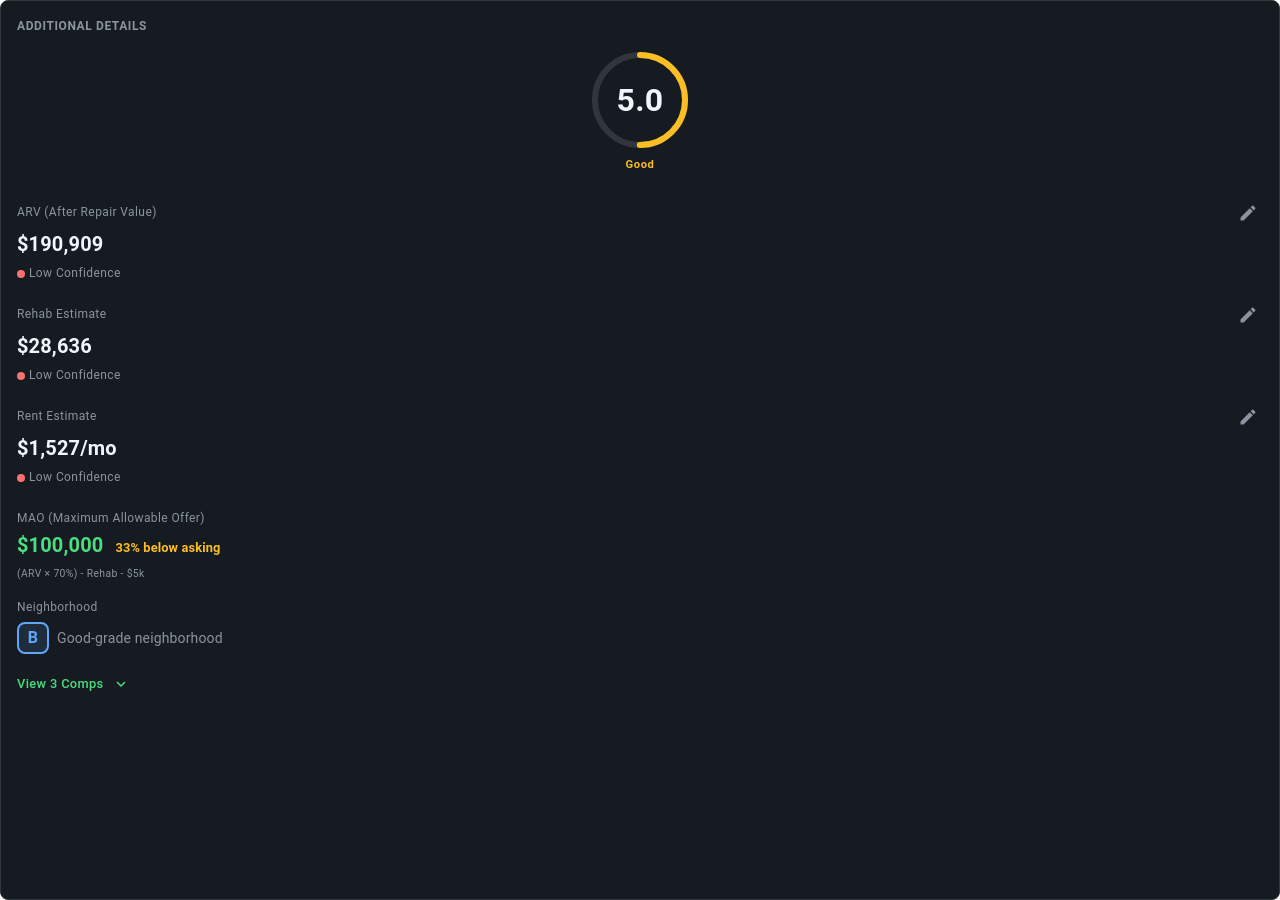
Test: EvaluationSection › reading from _metrics (TASK-093) › should show Manual Override badge after editing
Note: Edit ARV
Click the button named "Edit ARV" at (1248, 213), box [1233, 198, 1263, 228]
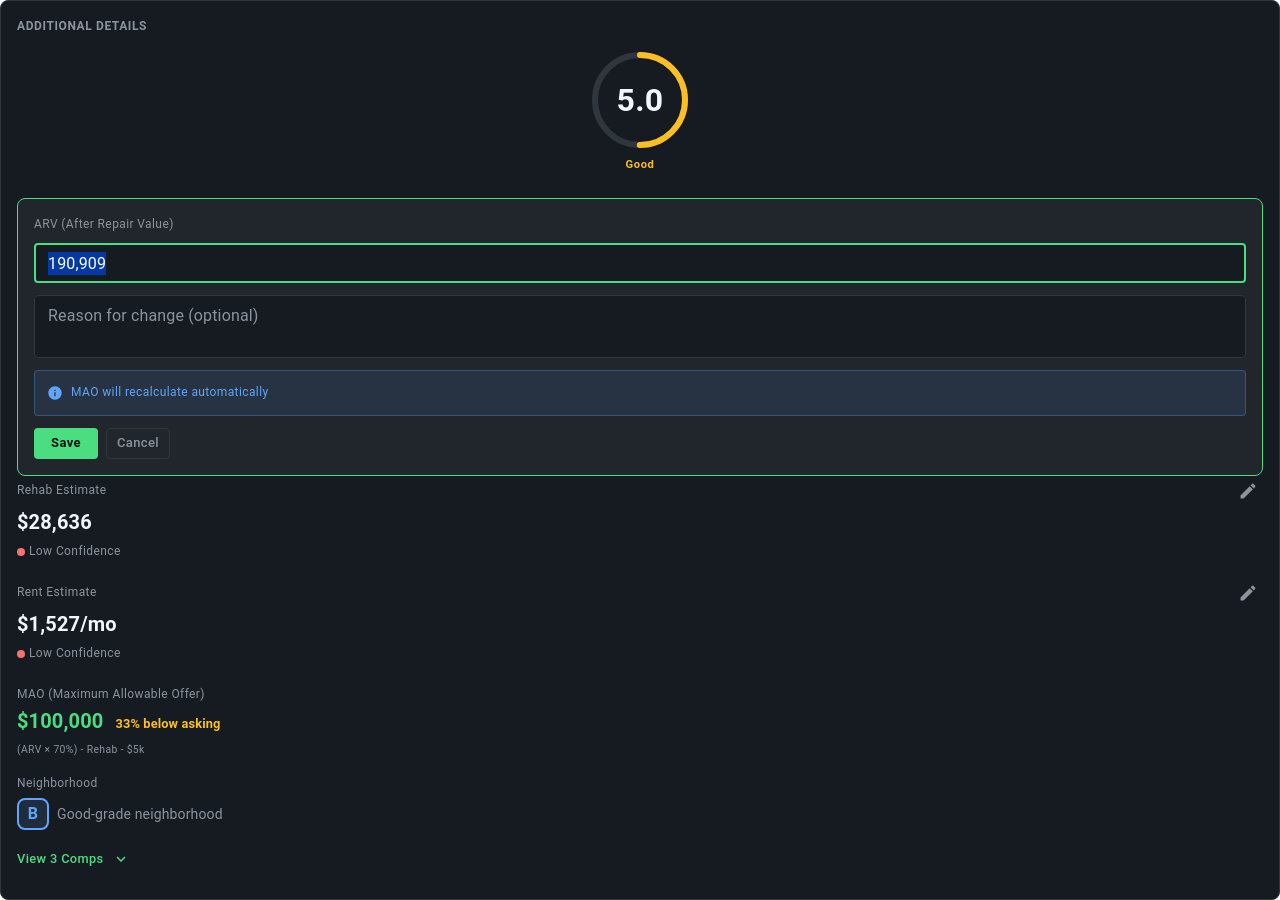
Replace the text in the field with placeholder "Enter value" with "300000" at (640, 263), box [34, 243, 1246, 283]
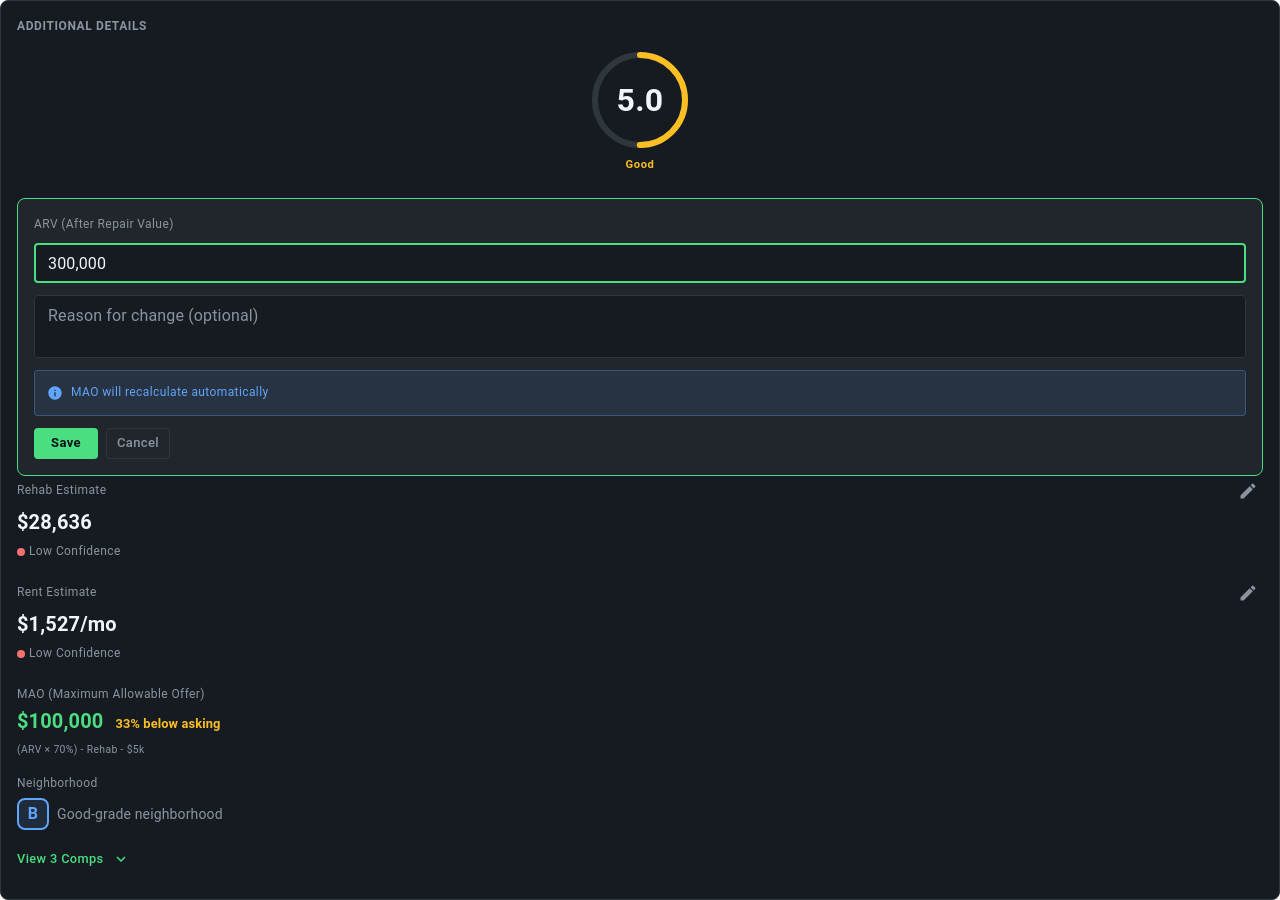
Click the button "Save" at (66, 444), box [34, 428, 98, 459]
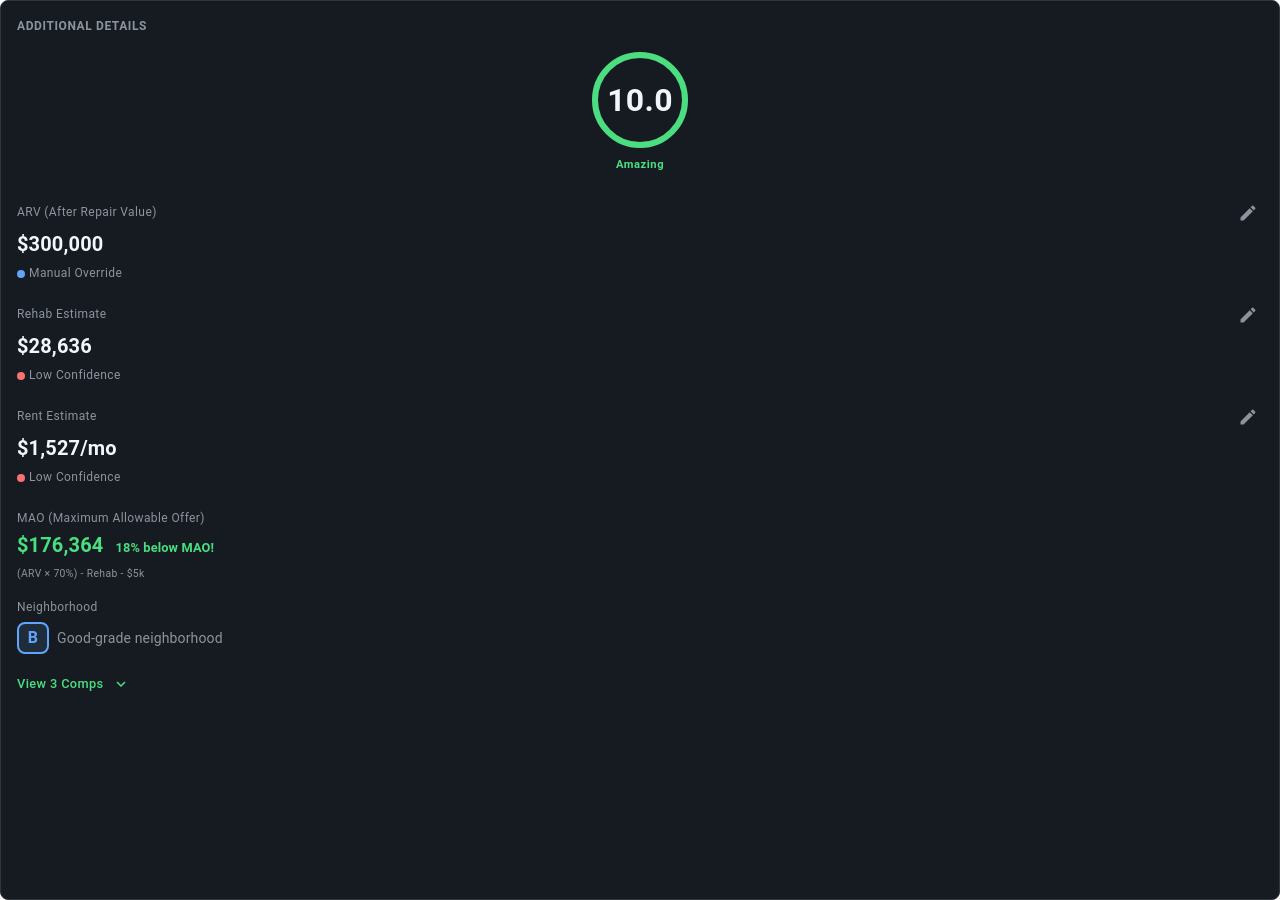
Expected: the text "Manual Override" is shown, [29, 264, 122, 284]
